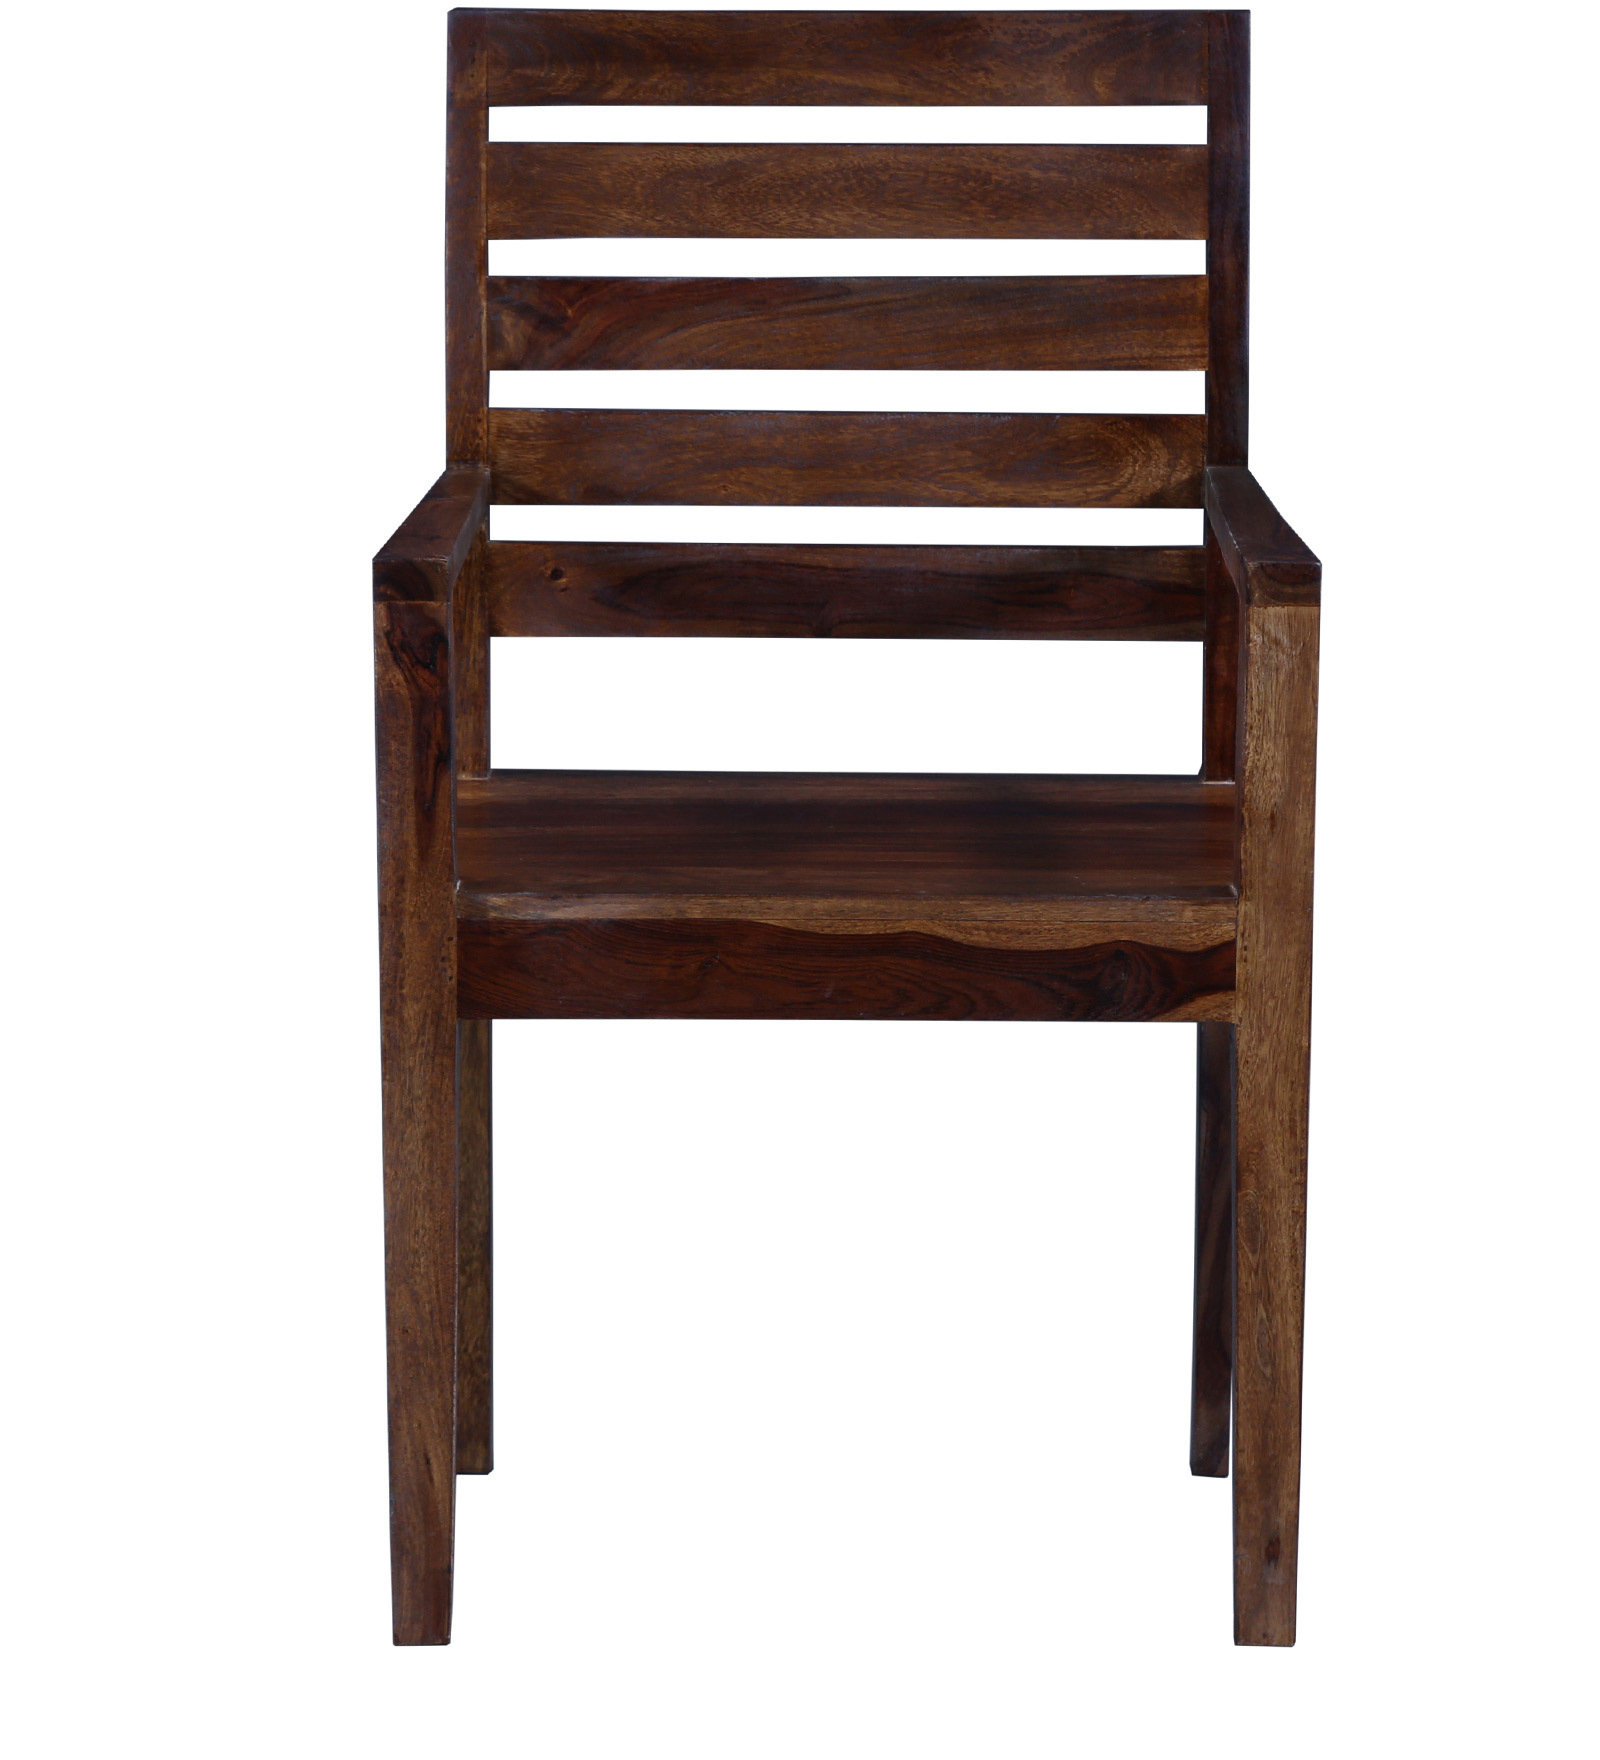Stigen Arm Chair in Provincial Teak Finish by Woodsworth: (310, 26, 1441, 1688)
